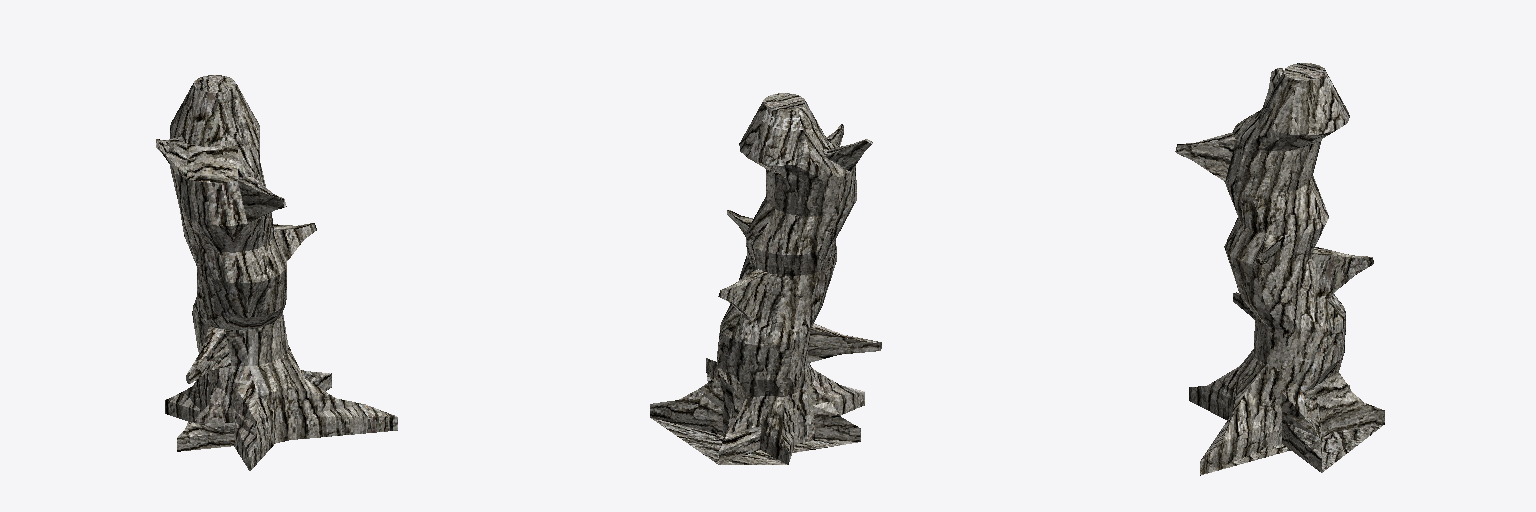
3 renders of one model, left to right at view 1: azimuth 30°, elevation 25°; view 2: azimuth 150°, elevation 25°; view 3: azimuth 270°, elevation 25°, orthographic.
Parts seen in each view (by area): view 1: Cylinder; view 2: Cylinder; view 3: Cylinder.
Boxes of the visible parts, x1,y1,x2,y2 form: Cylinder: [156, 75, 397, 470]; Cylinder: [650, 93, 881, 464]; Cylinder: [1175, 63, 1384, 475].
Bounding box in the file's own units: 5.15 × 8.23 × 4.6.
1 materials, 1 textured.